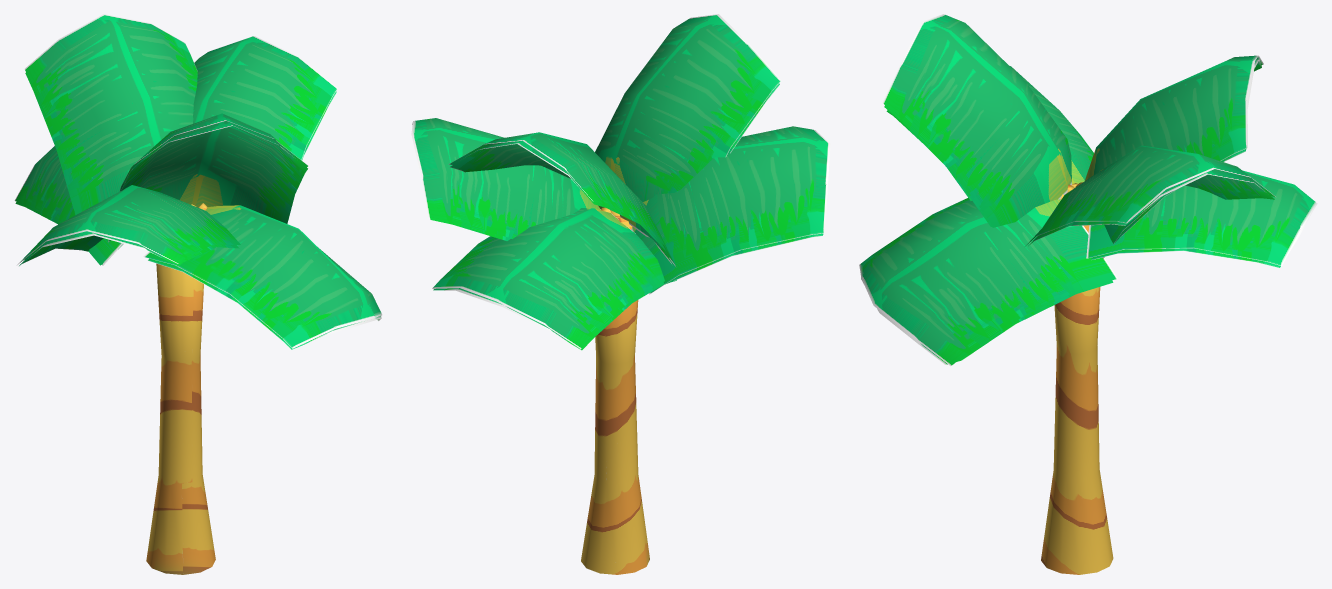
File: palmera.glb
The picture shows the model from 3 angles, left to right: view 1: azimuth 30°, elevation 25°; view 2: azimuth 150°, elevation 25°; view 3: azimuth 270°, elevation 25°; orthographic projection. The views are drawn at different scales.
Visible parts, largest first — view 1: Cylinder.028; view 2: Cylinder.028; view 3: Cylinder.028.
Part boxes in pixels (box(x1,y1,x2,y2)): Cylinder.028: box(14, 14, 382, 574); Cylinder.028: box(411, 14, 830, 574); Cylinder.028: box(859, 14, 1317, 574).
Size of the model in its own units: 10.37 by 13.49 by 10.72.
1 material, 1 textured.
